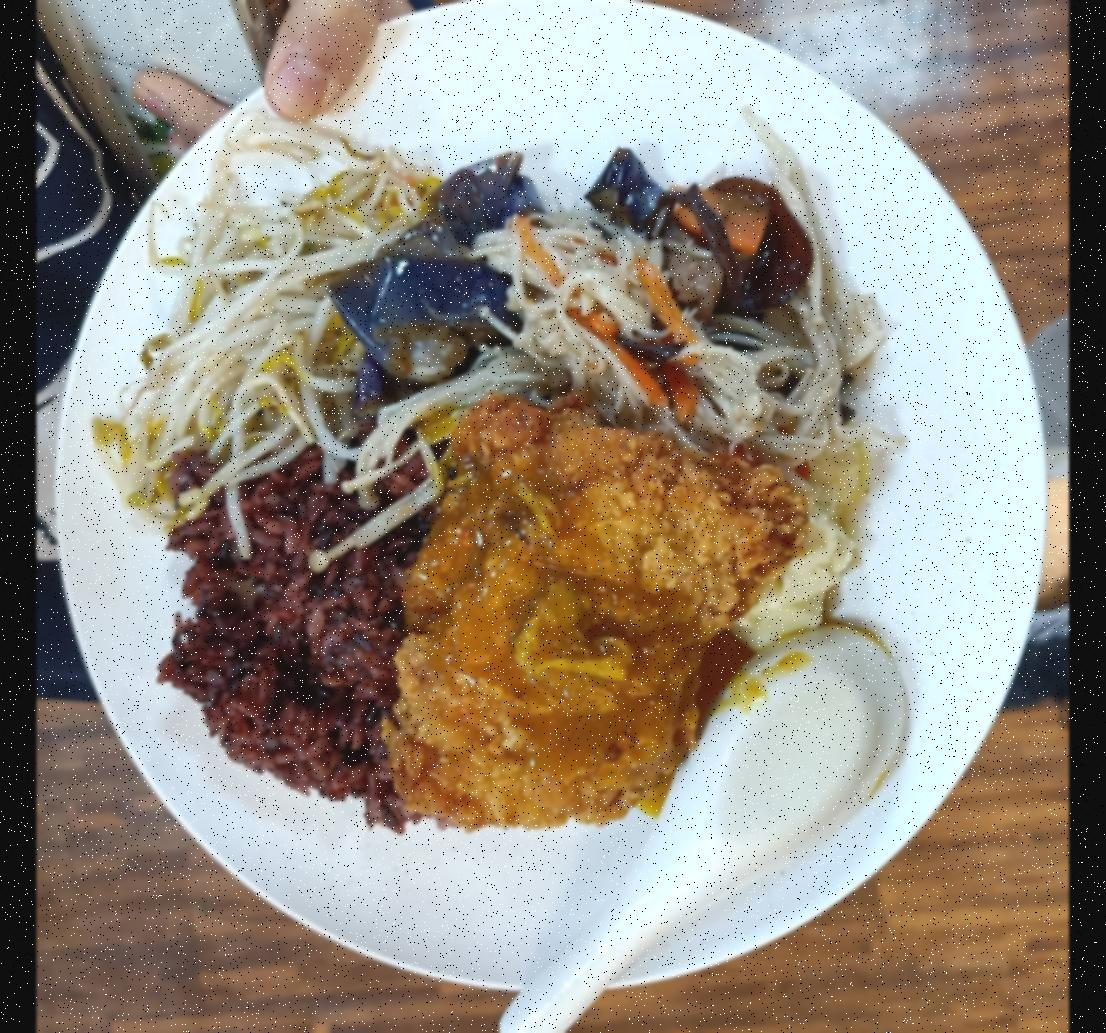kara chicken leg steak: (377, 395, 770, 849)
plate: (42, 0, 1054, 1029)
purple rice: (157, 403, 429, 829)
side dish: (104, 135, 434, 494), (472, 163, 876, 439), (337, 138, 533, 422)
